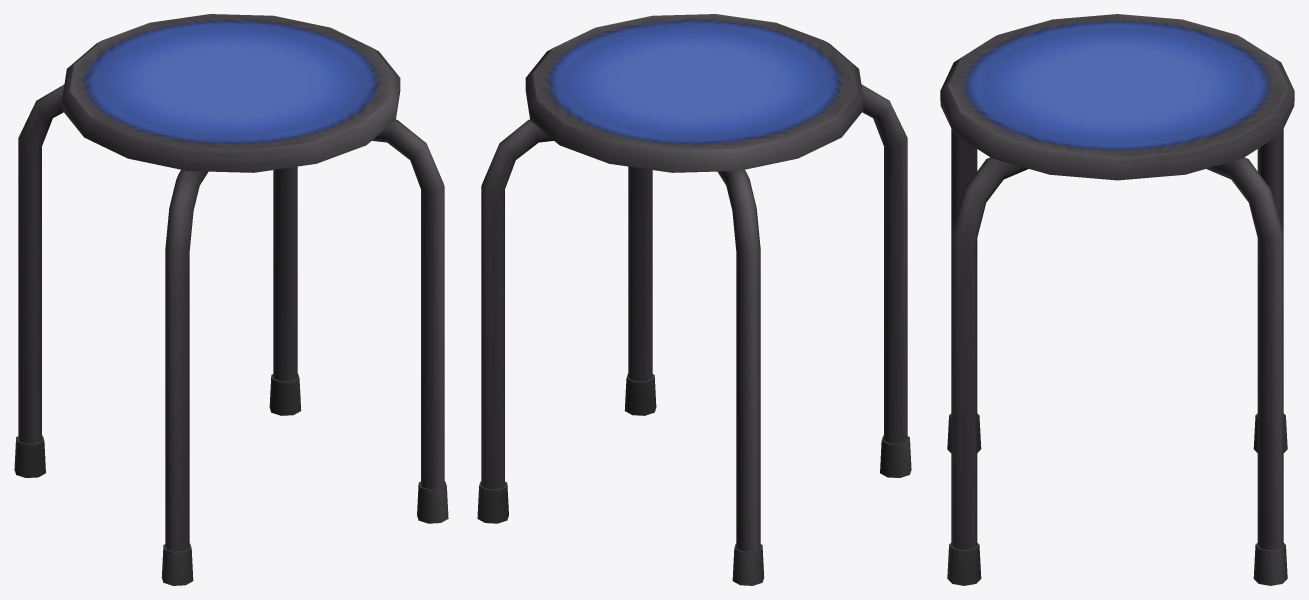
Rendered from jsf_Chair_08.fbx.
The picture shows the model from 3 angles, left to right: view 1: azimuth 30°, elevation 25°; view 2: azimuth 150°, elevation 25°; view 3: azimuth 270°, elevation 25°; orthographic projection. The views are drawn at different scales.
Visible parts, largest first — view 1: jsf_Chair_08; view 2: jsf_Chair_08; view 3: jsf_Chair_08.
Part boxes in pixels (box(x1,y1,x2,y2)): jsf_Chair_08: box(14, 14, 448, 585); jsf_Chair_08: box(477, 14, 911, 585); jsf_Chair_08: box(940, 14, 1294, 585).
Bounding box in the file's own units: 33 × 44 × 33.
